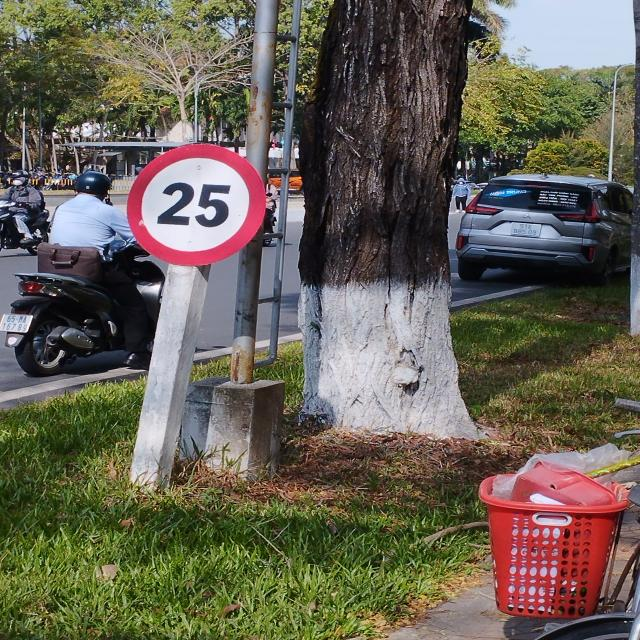Tre_Em: (125, 145, 264, 263)
